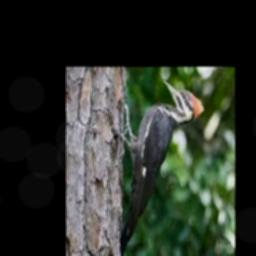Woodpecker: (119, 81, 205, 256)
